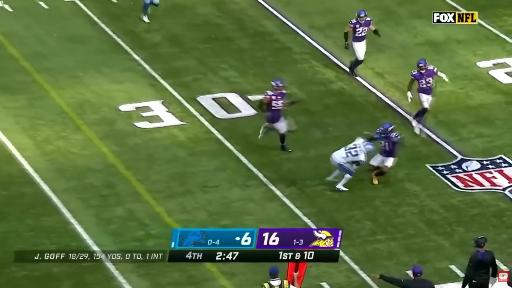Helmet: (377, 123, 394, 135), (363, 142, 374, 154), (356, 10, 367, 22), (271, 80, 283, 90), (417, 59, 427, 70)
Jersey: (332, 138, 367, 165), (411, 66, 437, 95), (264, 91, 286, 123), (376, 132, 400, 157), (350, 18, 371, 42)
Player: (407, 59, 448, 134), (259, 80, 297, 151), (326, 138, 374, 191), (344, 10, 380, 76), (370, 123, 400, 184), (142, 0, 159, 22)
